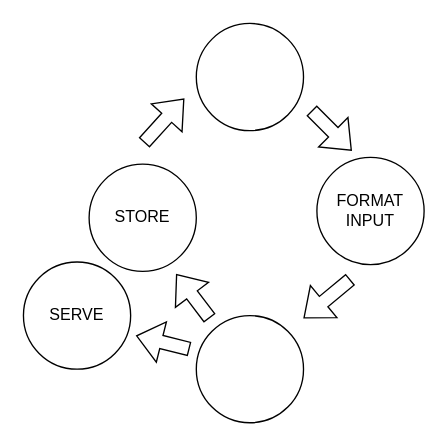
Image size: 448x446. Some labels were removed from this diagram. The shapes that lost their labels are listed below. From the top down, each one's centre as x and y in pixels, then its label:
pixel 249 76: COLLECT
pixel 249 368: EXECUTE
